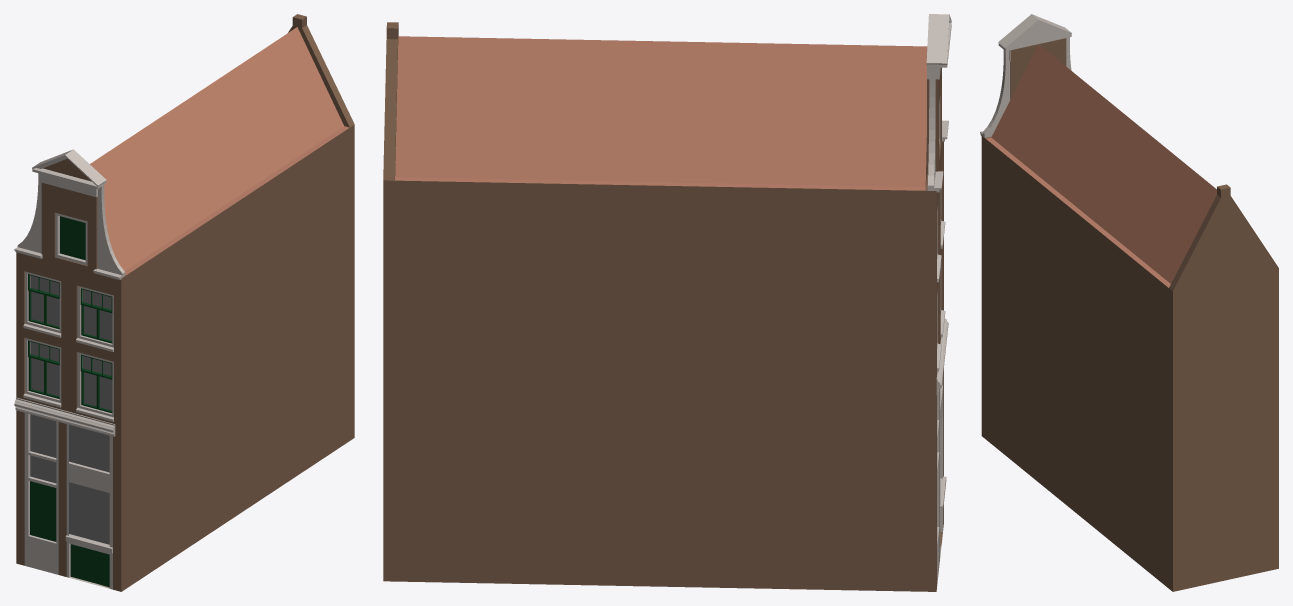
The model's file is Kattenburgerplein_3.fbx.
The picture shows the model from 3 angles, left to right: view 1: azimuth 30°, elevation 25°; view 2: azimuth 150°, elevation 25°; view 3: azimuth 270°, elevation 25°; orthographic projection. The views are drawn at different scales.
Parts seen in each view (by area): view 1: Kattenburgerplein_3, Kattenburgerplein_3_roof, Kattenburgerplein_2_lower_frame.001, Kattenburgerplein_2_lower_frame.002, window_frame_type3.002, Top_gable_pediment.001, window_frame, Kattenburgerplein_3_lower_frame_door, Cube.002, Kattenburgerplein_3_lower_frame_door.001, top_gable_deco.003, top_gable_deco.002; view 2: Kattenburgerplein_3, Kattenburgerplein_3_roof, Top_gable_pediment.001, Kattenburgerplein_2_lower_frame.001, top_gable_deco.002; view 3: Kattenburgerplein_3, Kattenburgerplein_3_roof, Top_gable_pediment.001, top_gable_deco.003.
Part boxes in pixels (x1=…): Kattenburgerplein_3: x1=16, y1=14, x2=354, y2=591; Kattenburgerplein_3_roof: x1=90, y1=27, x2=349, y2=275; Kattenburgerplein_2_lower_frame.001: x1=24, y1=413, x2=112, y2=589; Kattenburgerplein_2_lower_frame.002: x1=30, y1=414, x2=109, y2=544; window_frame_type3.002: x1=23, y1=271, x2=113, y2=421; Top_gable_pediment.001: x1=32, y1=149, x2=106, y2=197; window_frame: x1=55, y1=212, x2=87, y2=265; Kattenburgerplein_3_lower_frame_door: x1=30, y1=481, x2=56, y2=541; Cube.002: x1=14, y1=397, x2=115, y2=436; Kattenburgerplein_3_lower_frame_door.001: x1=70, y1=544, x2=109, y2=586; top_gable_deco.003: x1=93, y1=185, x2=124, y2=279; top_gable_deco.002: x1=14, y1=173, x2=42, y2=258; Kattenburgerplein_3: x1=383, y1=22, x2=943, y2=591; Kattenburgerplein_3_roof: x1=394, y1=36, x2=927, y2=190; Top_gable_pediment.001: x1=926, y1=14, x2=951, y2=79; Kattenburgerplein_2_lower_frame.001: x1=937, y1=375, x2=946, y2=586; top_gable_deco.002: x1=927, y1=67, x2=943, y2=192; Kattenburgerplein_3: x1=981, y1=38, x2=1278, y2=591; Kattenburgerplein_3_roof: x1=986, y1=44, x2=1216, y2=287; Top_gable_pediment.001: x1=998, y1=14, x2=1071, y2=61; top_gable_deco.003: x1=980, y1=50, x2=1010, y2=137.
Bounding box in the file's own units: 15.13 × 15.94 × 10.59.
